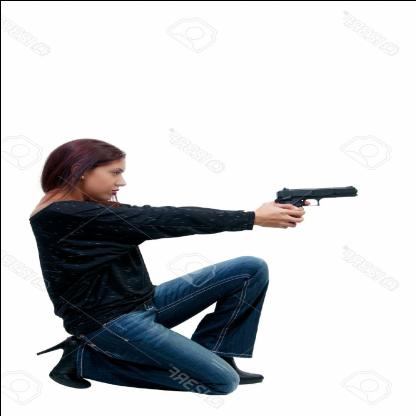billete: (269, 182, 361, 224)
